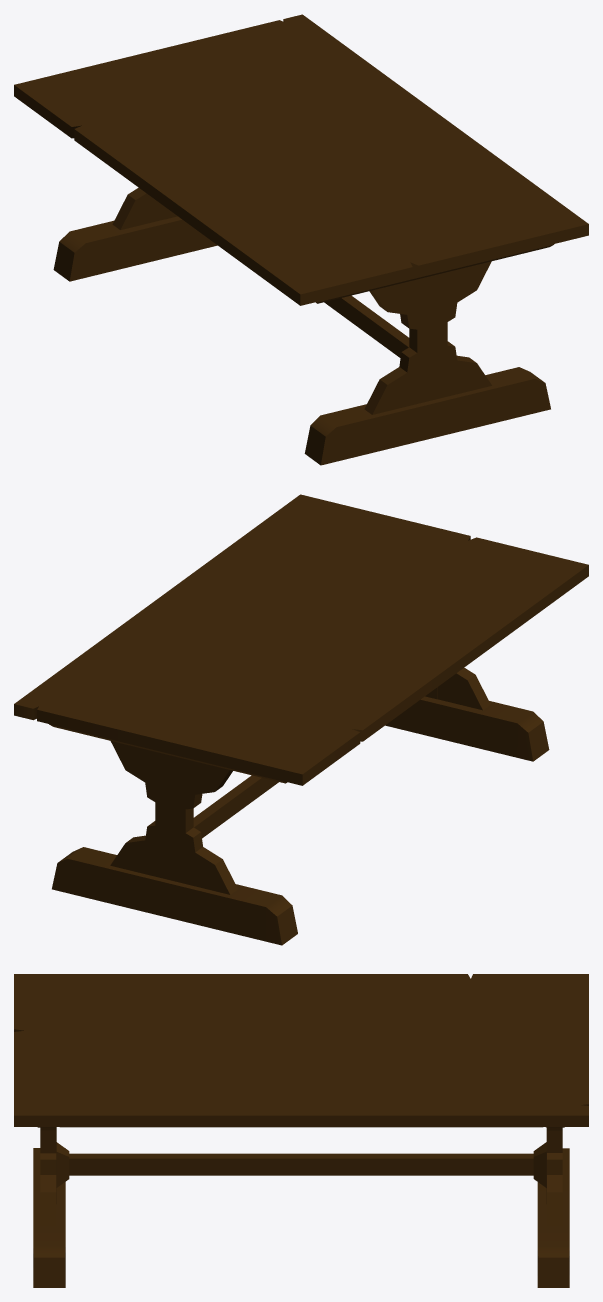
File: Table.fbx
The picture shows the model from 3 angles, top to bottom: view 1: azimuth 30°, elevation 25°; view 2: azimuth 150°, elevation 25°; view 3: azimuth 270°, elevation 25°; orthographic projection.
Parts seen in each view (by area): view 1: polySurface20; view 2: polySurface20; view 3: polySurface20.
Boxes of the visible parts, box(x1,y1,x2,y2) form: polySurface20: box(14, 14, 588, 465); polySurface20: box(14, 494, 588, 945); polySurface20: box(14, 974, 588, 1287).
Size of the model in its own units: 12.1 by 7.43 by 20.8.
